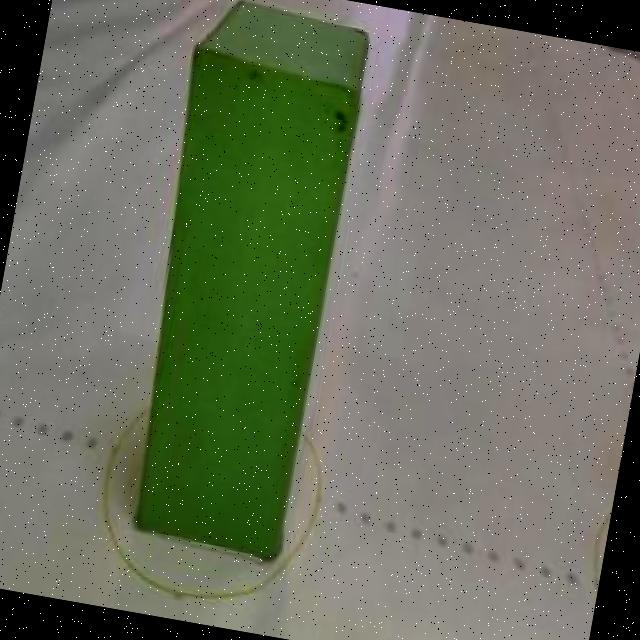greenbox: (108, 0, 375, 561)
